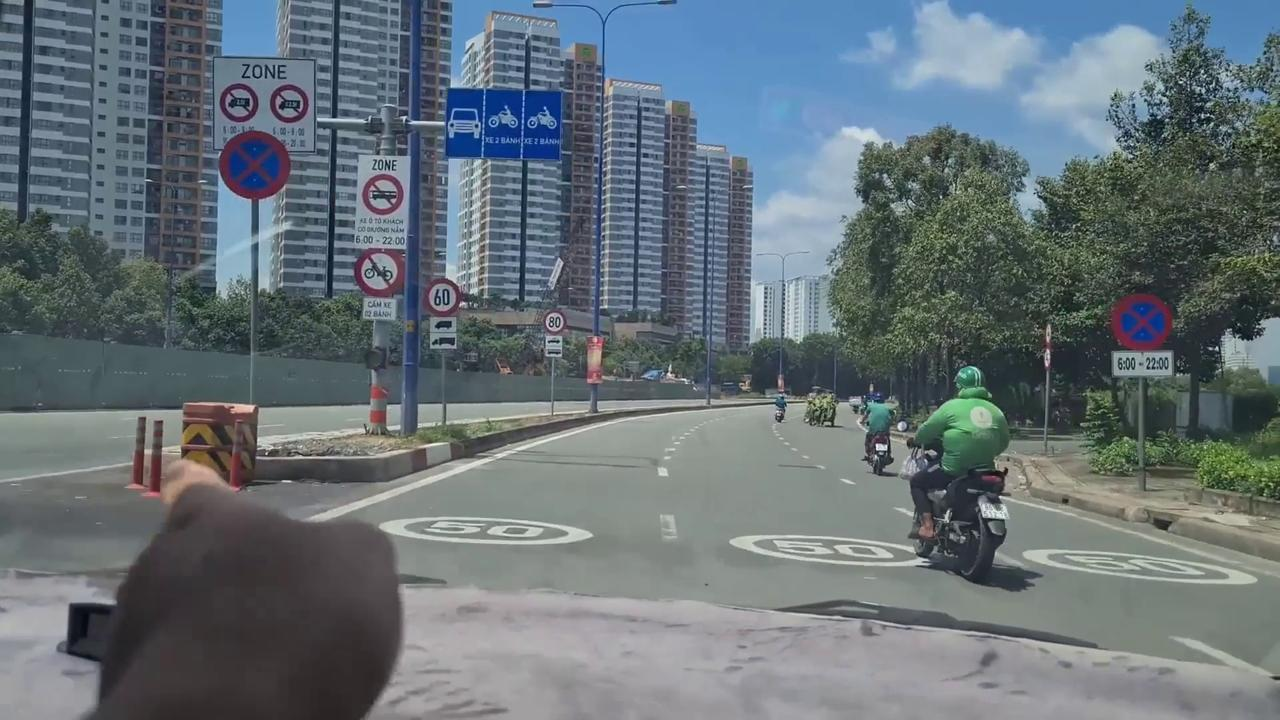Biển phụ: (1110, 350, 1175, 378), (428, 316, 458, 350), (362, 296, 397, 322), (545, 336, 563, 358)
Cấm cac phương tiện hoạt động trong khung giờ cố định: (209, 54, 320, 155), (355, 153, 409, 250)
Cấm dừng - Cấm đỗ: (218, 130, 291, 200), (1108, 293, 1175, 350)
Cấm xe máy: (354, 248, 406, 298)
GIơi hạn tốc độ 60Km/h: (424, 278, 461, 316)
Giới hạn tốc độ 80Km/h: (543, 310, 567, 335)
Làn đường cho từng xe: (445, 86, 562, 162)
